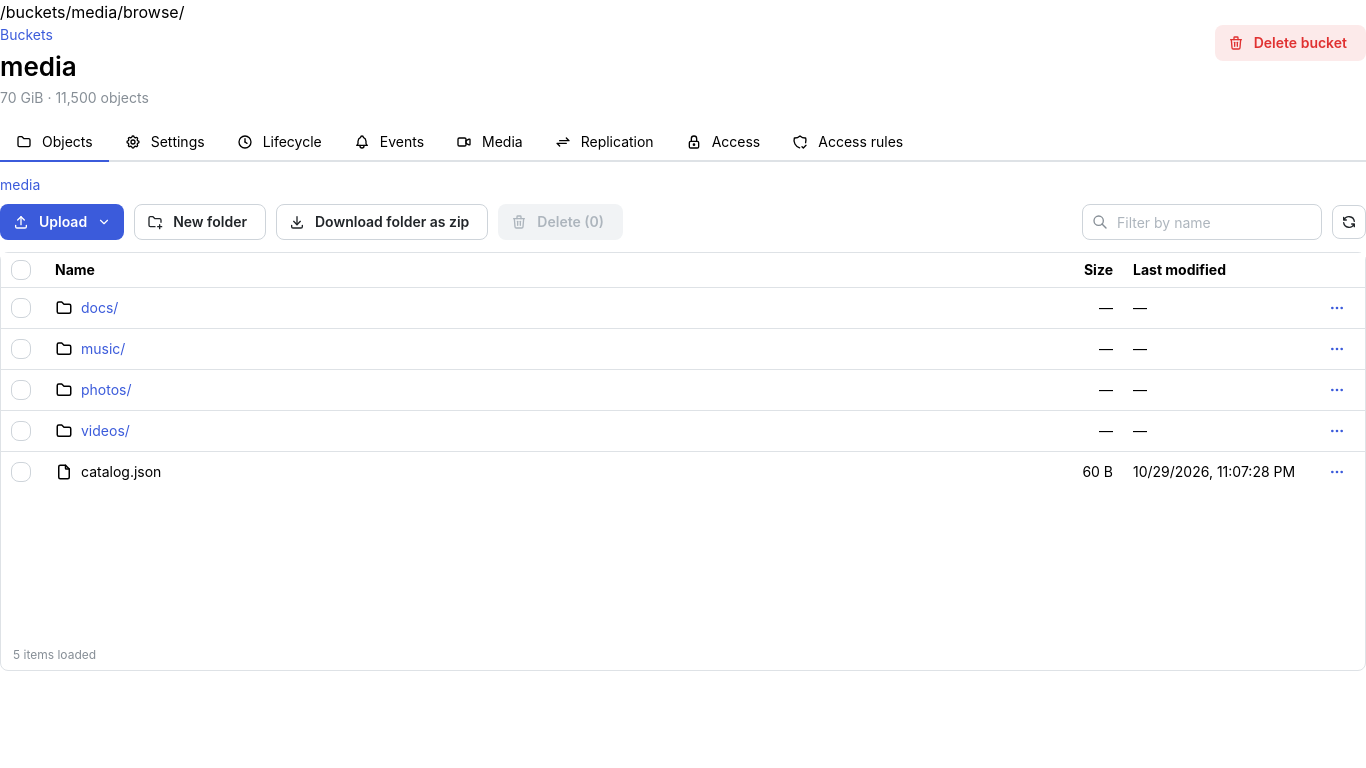
BucketDetailPage › opens the objects tab by default and switches tabs through the route
Expected: the text with test id "location" reads "/buckets/media/browse/", [0,2,184,22]
Expected: the heading "media" is shown, [0,49,77,84]
Click the tab "Settings" at point(165, 144), box [109,124,221,162]
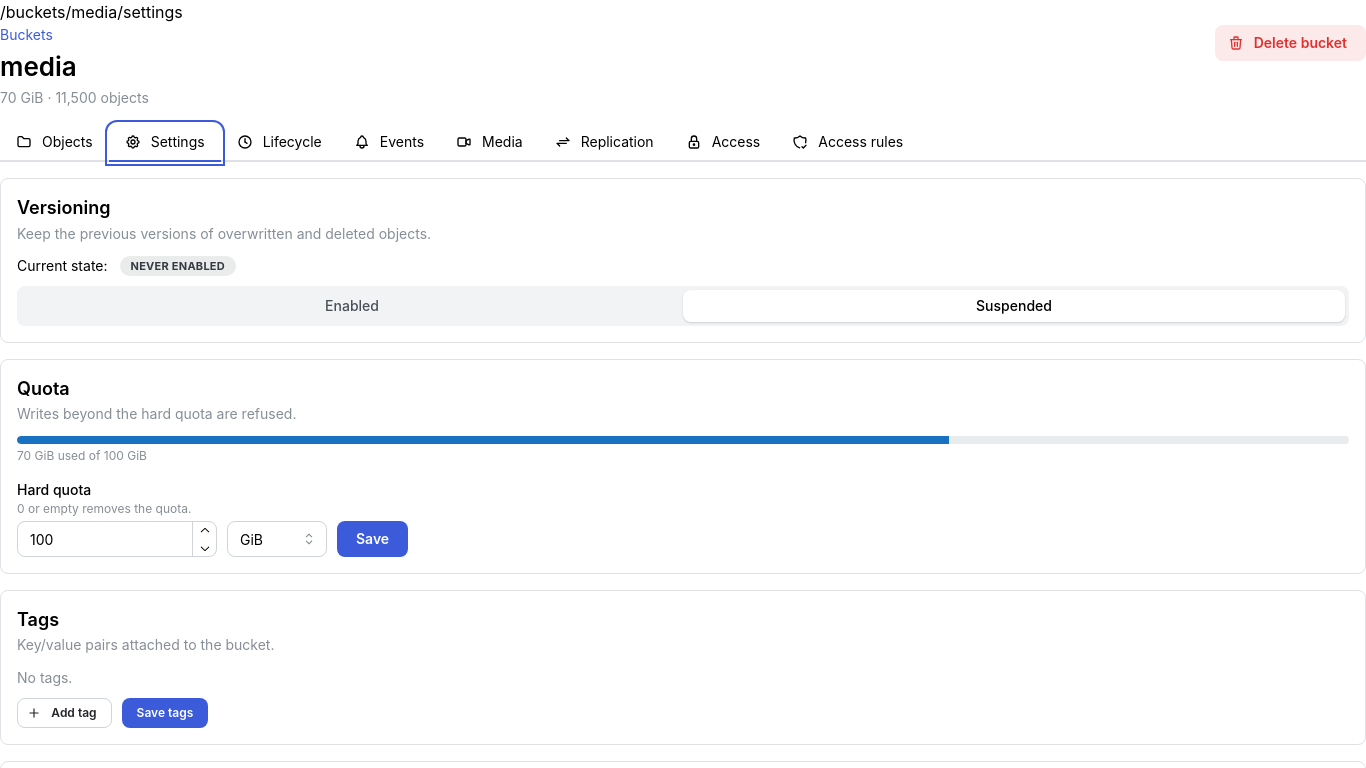
Now the text with test id "location" reads "/buckets/media/settings", box [0,2,183,22]
Click the tab "Access" at point(723, 144), box [670,124,776,162]
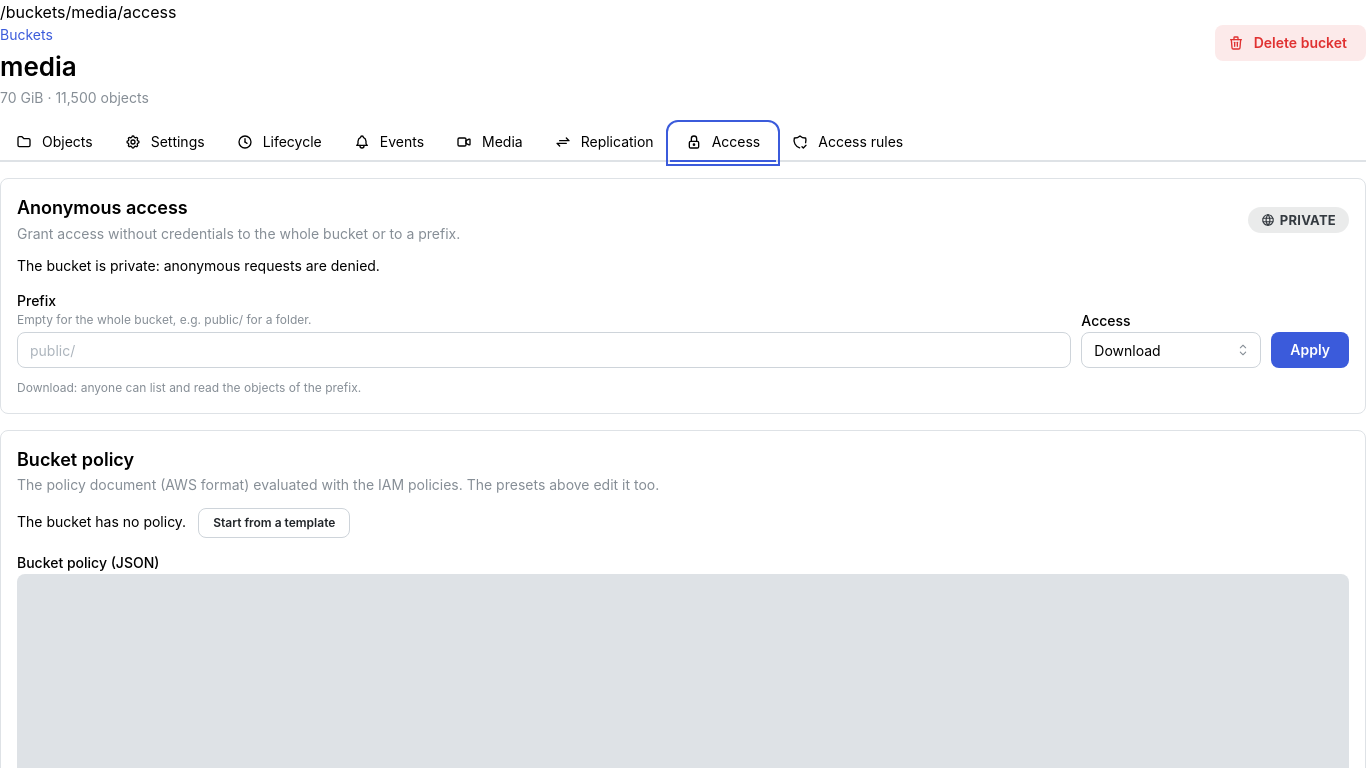
Now the text with test id "location" reads "/buckets/media/access", box [0,2,176,22]
Click the tab "Media" at point(489, 144), box [440,124,539,162]
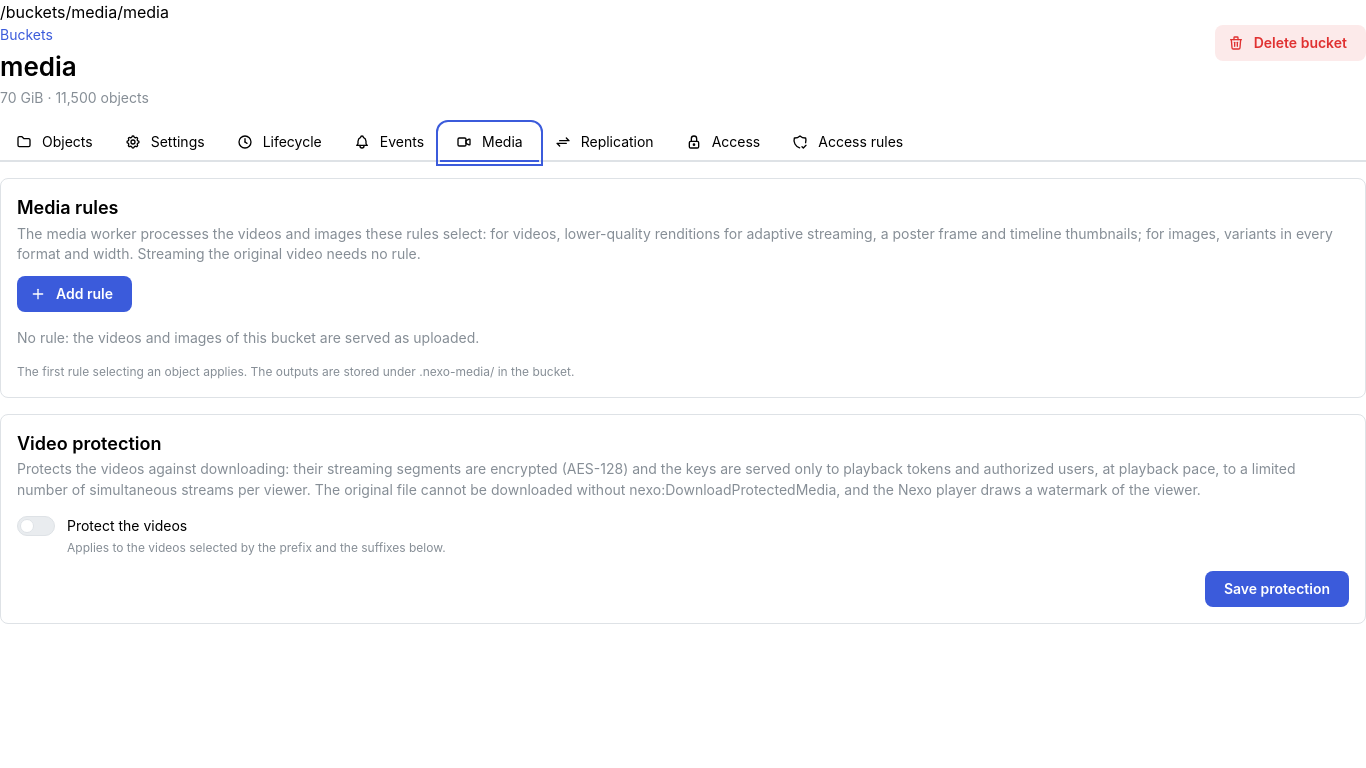
Now the text with test id "location" reads "/buckets/media/media", box [0,2,169,22]
